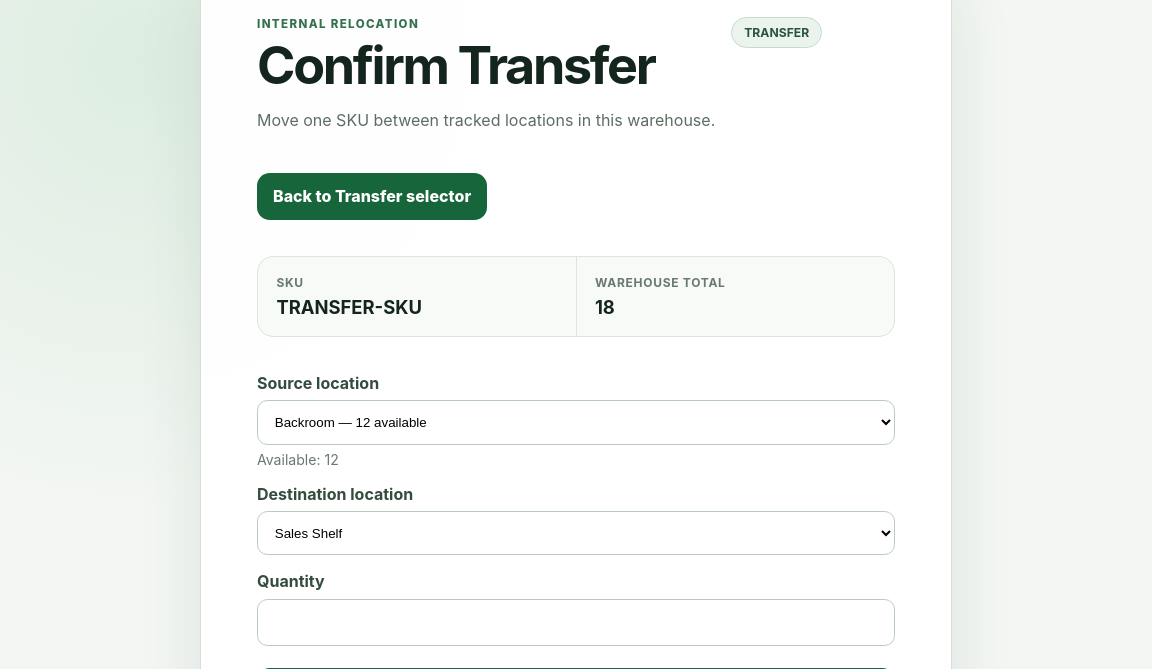
Scenario: US-TRF-001 Transfer page › shows availability and validates different locations and quantity
The image size is (1152, 669).
Expected: the text "TRANSFER-SKU" is shown, [276,296,422,318]
Expected: the text "Available: 12" is shown, [257,450,339,468]
Select "Backroom" in the dropdown labelled "Destination location": (576, 533) [257,511,895,555]
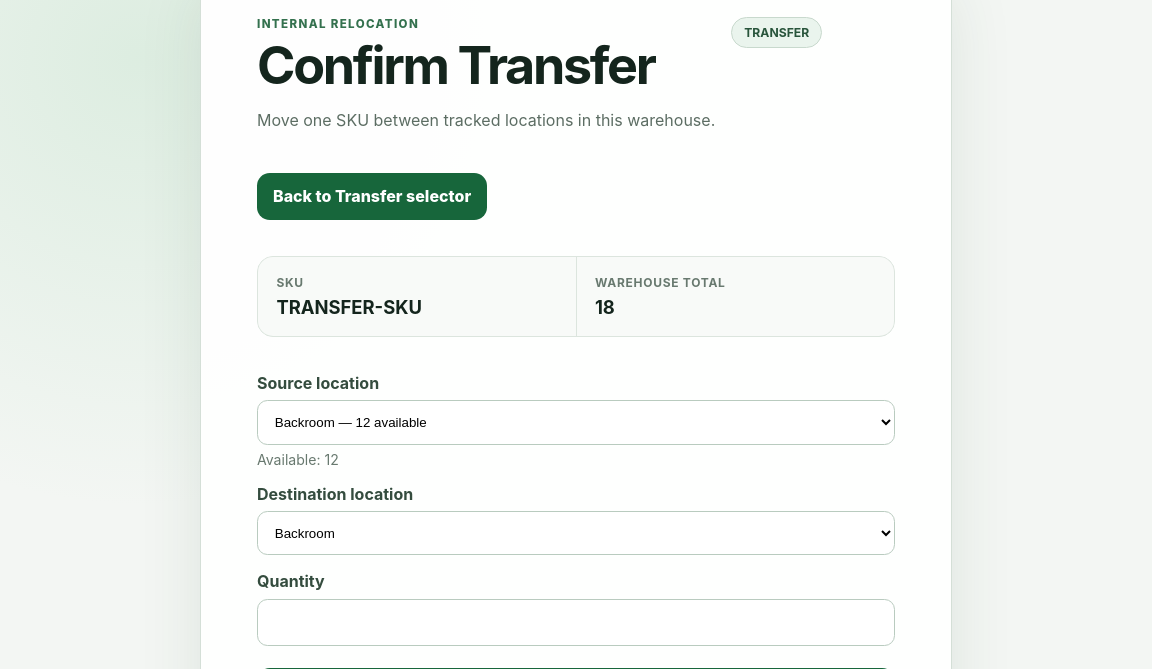
In the field labelled "Quantity": (576, 622) [257,598,895,646], type "0"
(page scrolled)
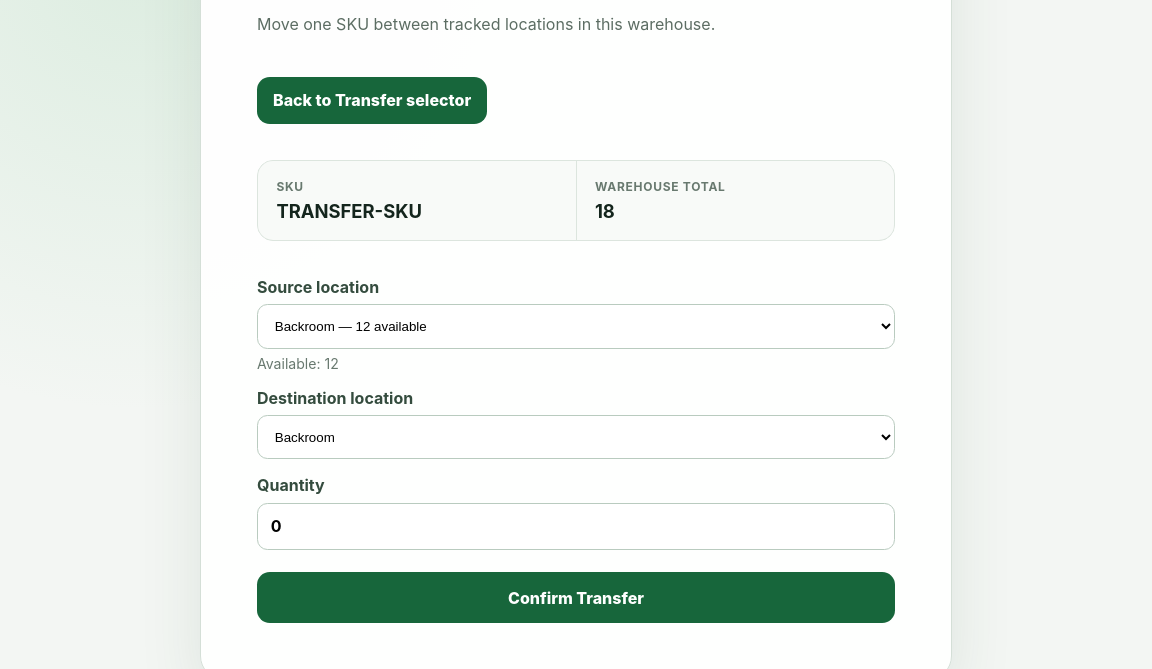
Click the button "Confirm Transfer": (576, 598) [257,572,895,623]
(page scrolled)
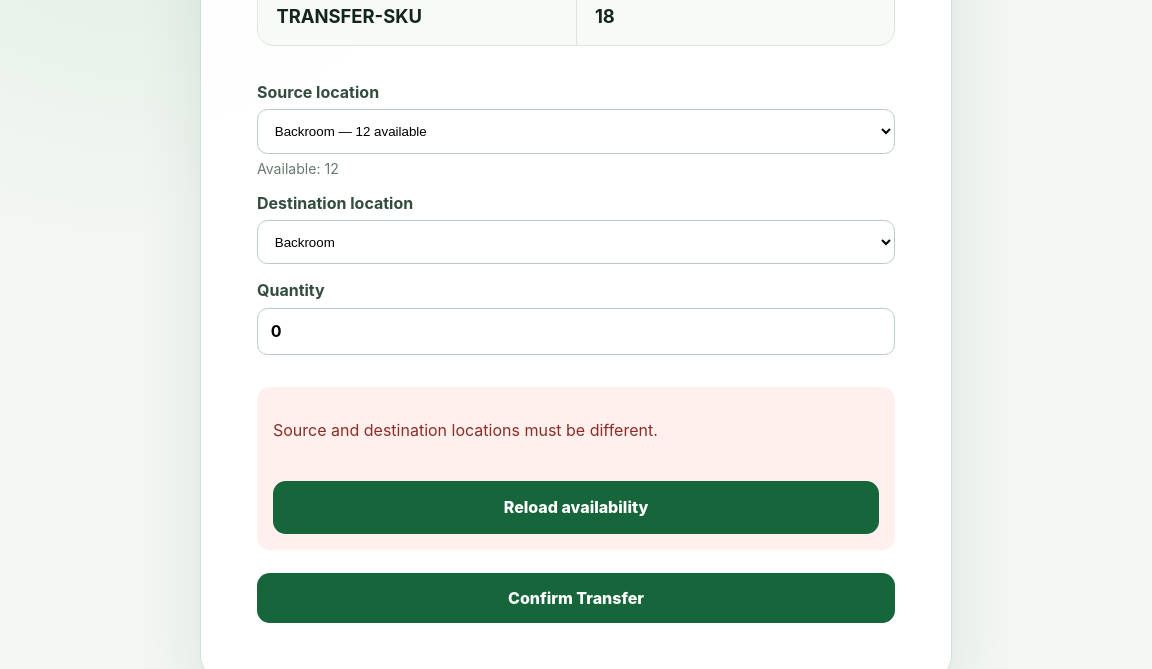
Expected: the message shows "Source and destination locations must be different.", [273,420,658,440]
